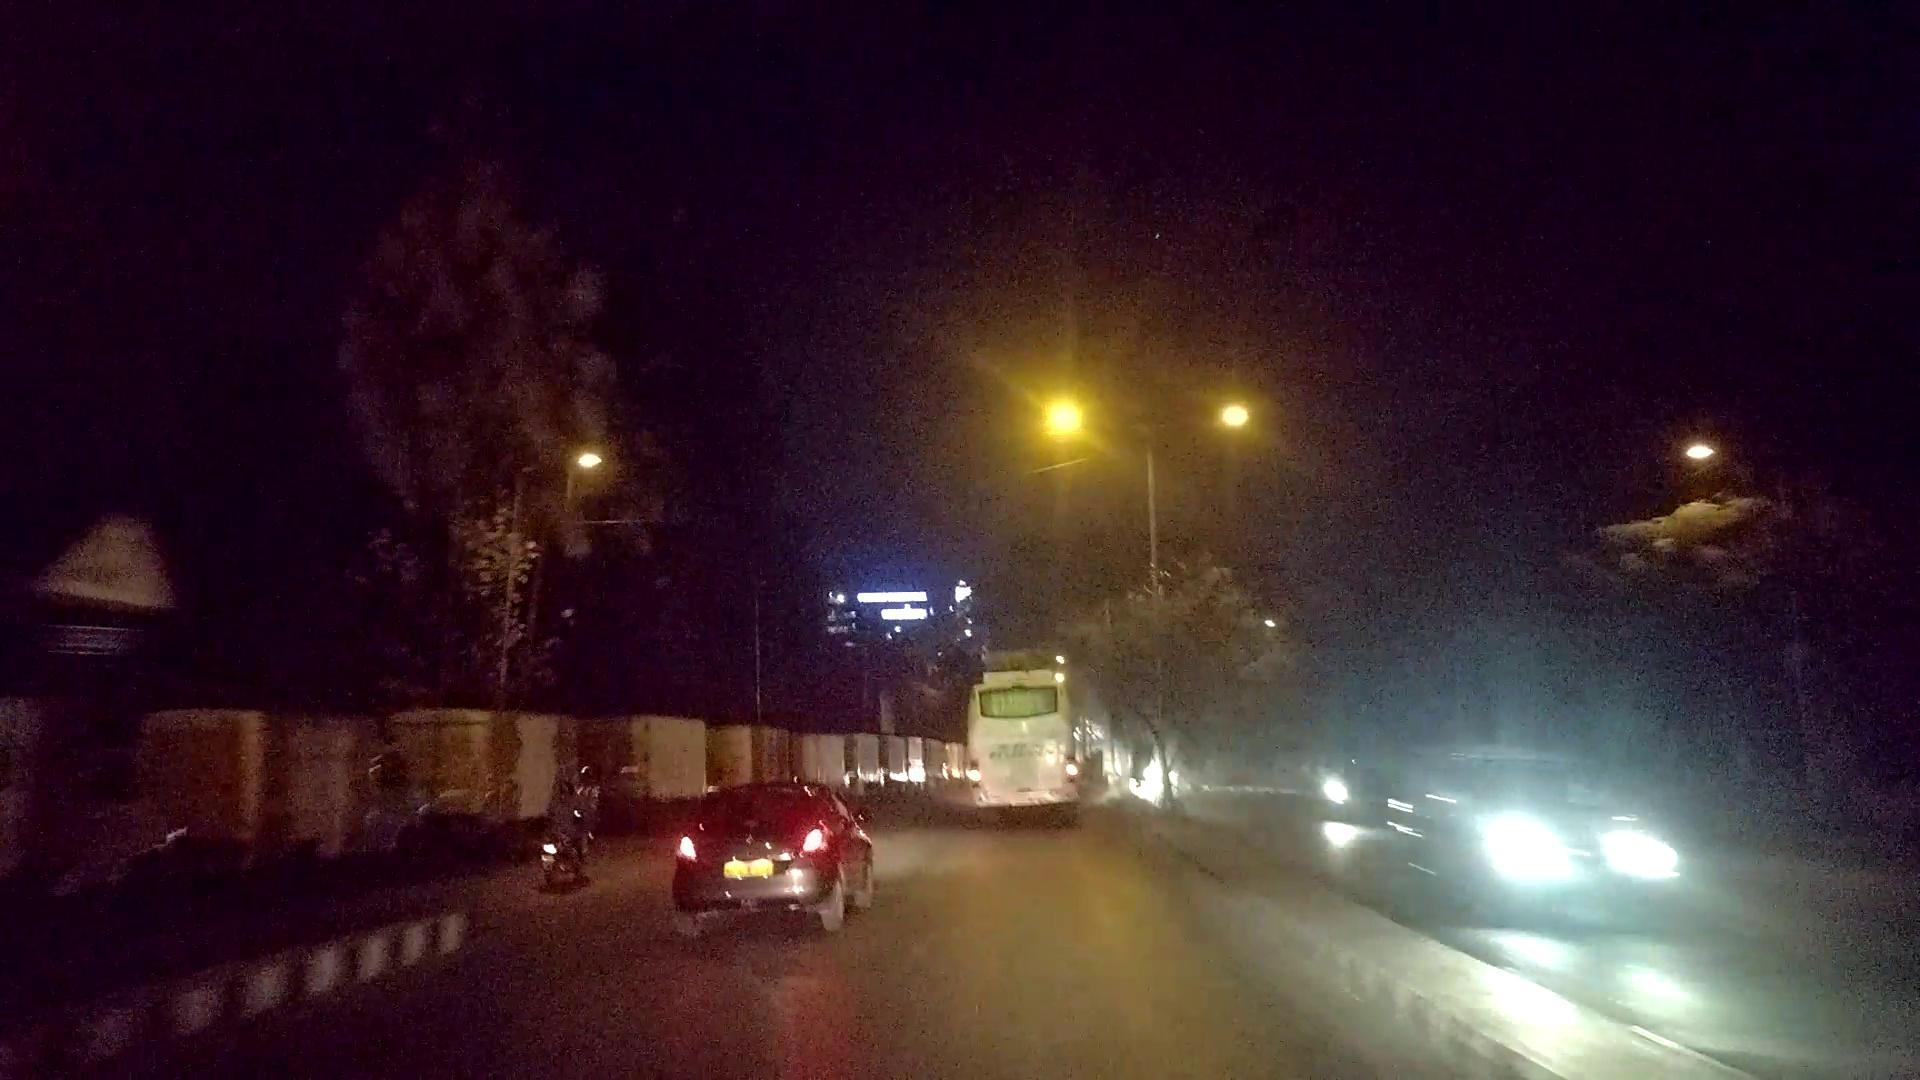on: (940, 252, 1366, 459)
